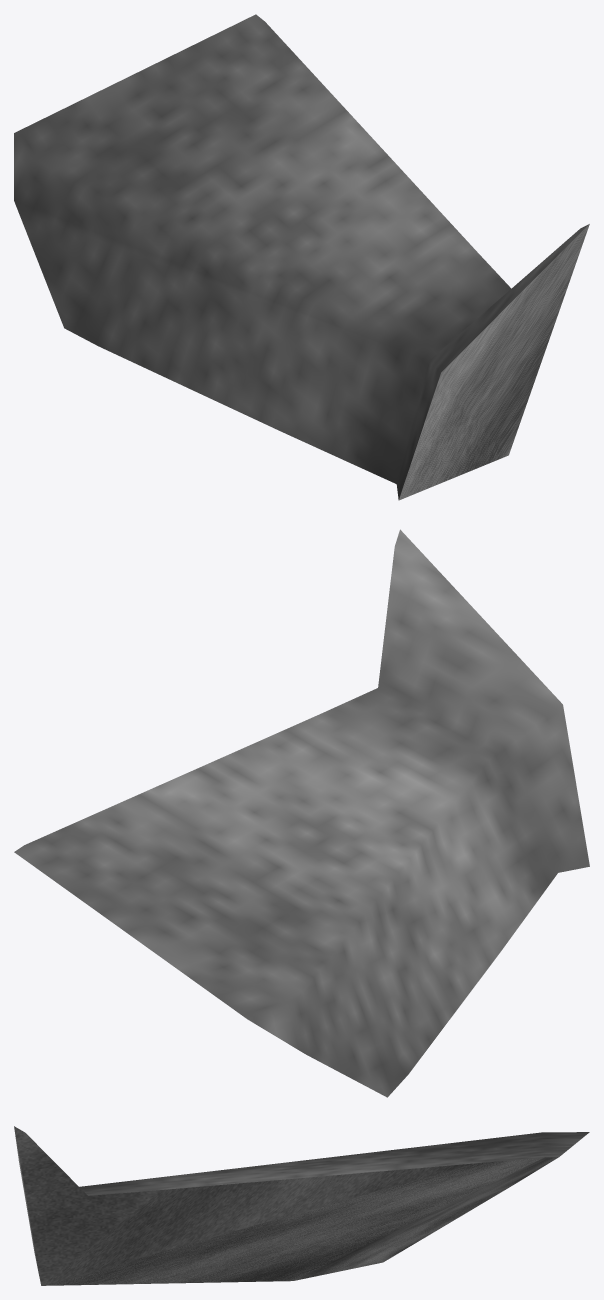
The model's file is body_cell_011.fbx.
3 views of the same model, one above another, from view 1: azimuth 30°, elevation 25°; view 2: azimuth 150°, elevation 25°; view 3: azimuth 270°, elevation 25° (orthographic). The views are drawn at different scales.
Visible parts, largest first — view 1: body_cell.011; view 2: body_cell.011; view 3: body_cell.011.
Part boxes in pixels (<box>): body_cell.011: <box>14,14,589,500</box>; body_cell.011: <box>14,529,589,1097</box>; body_cell.011: <box>14,1126,589,1285</box>.
Size of the model in its own units: 17.14 by 15.32 by 40.61.
